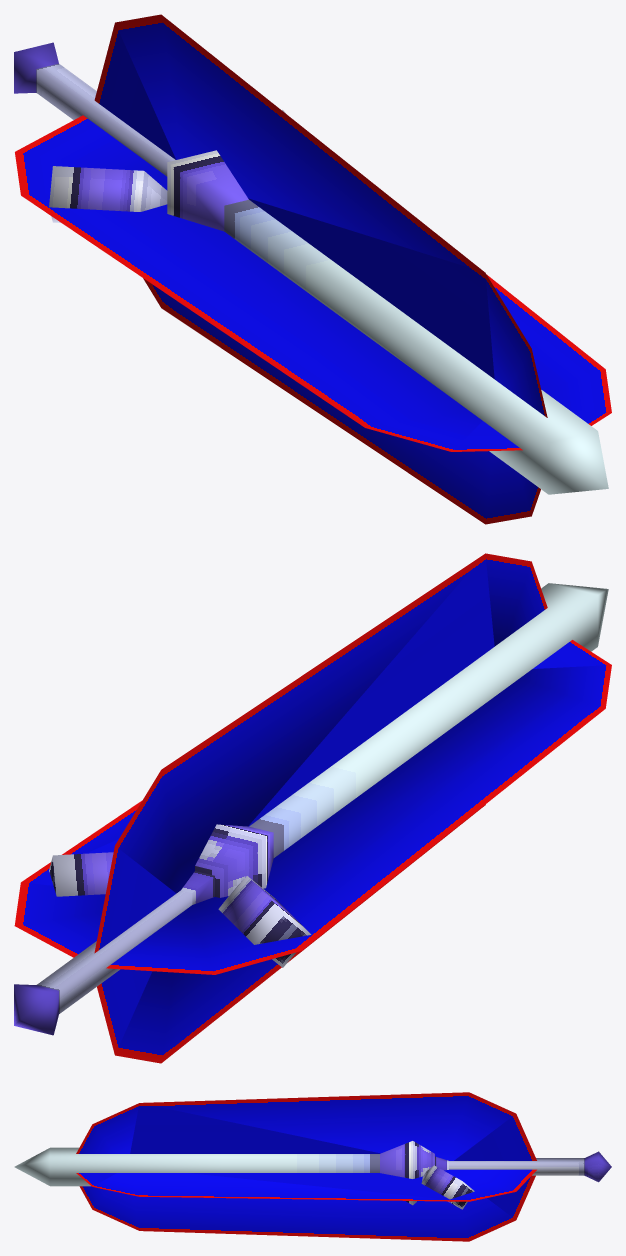
File: Stun Club.obj
The picture shows the model from 3 angles, top to bottom: view 1: azimuth 30°, elevation 25°; view 2: azimuth 150°, elevation 25°; view 3: azimuth 270°, elevation 25°; orthographic projection. The views are drawn at different scales.
Visible parts, largest first — view 1: StunClub2, StunClub1; view 2: StunClub2, StunClub1; view 3: StunClub2, StunClub1.
Part boxes in pixels (box(x1,y1,x2,y2)): StunClub2: box(15, 14, 611, 524); StunClub1: box(14, 42, 608, 494); StunClub2: box(14, 553, 611, 1063); StunClub1: box(14, 583, 608, 1035); StunClub2: box(76, 1092, 536, 1241); StunClub1: box(14, 1141, 611, 1209).
Bounding box in the file's own units: 3.5 × 3.5 × 12.69.
